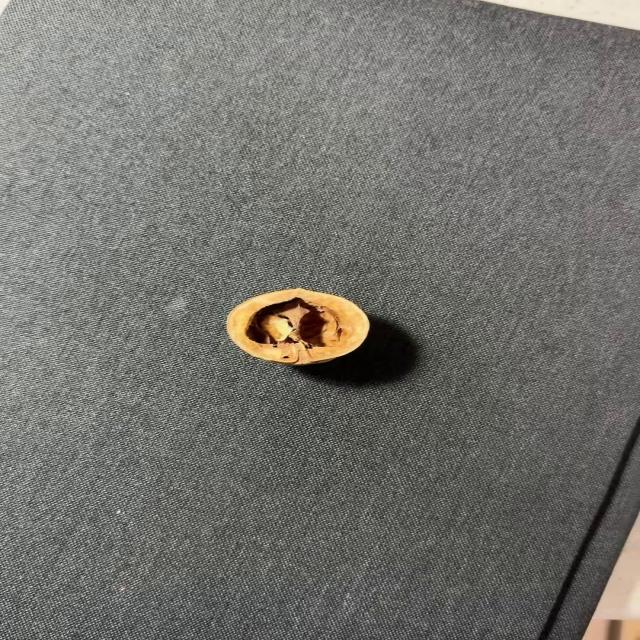nuts-bad0.5: (226, 288, 369, 366)
